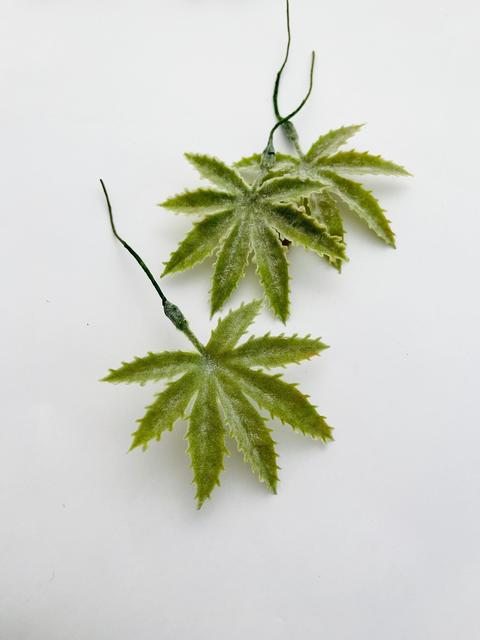Marijuana Bud: (98, 296, 352, 513), (157, 148, 352, 319), (230, 120, 411, 264)
